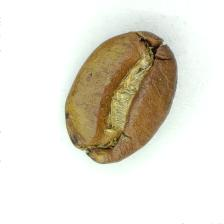NG: (101, 44, 153, 144)
